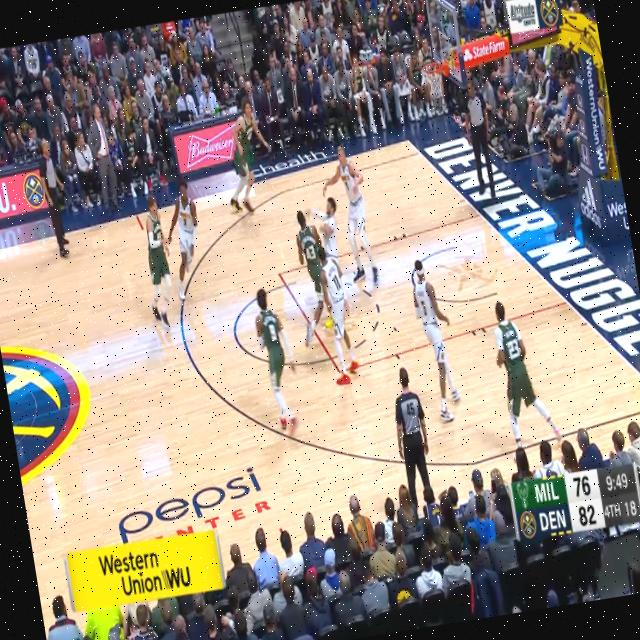Foul: (307, 165, 356, 264)
